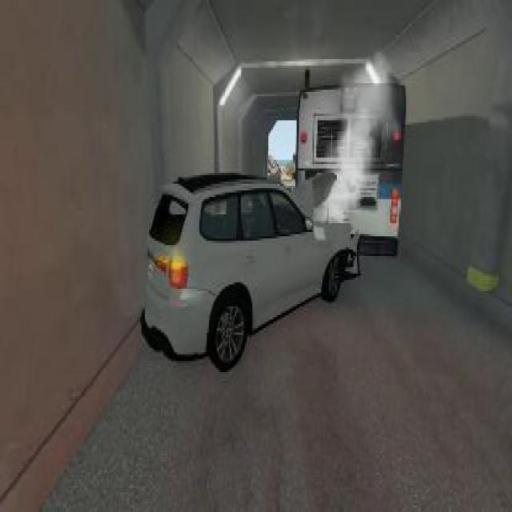小汽车撞小汽车: (142, 77, 408, 363)
